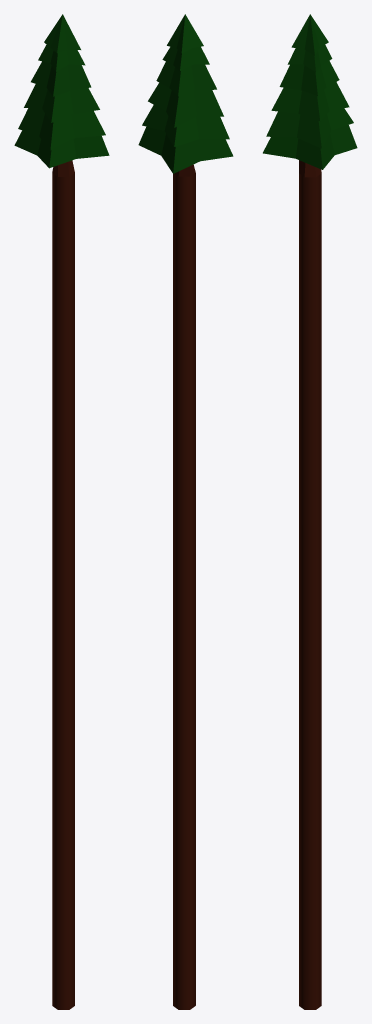
The model's file is Tall Tree.fbx.
3 renders of one model, left to right at view 1: azimuth 30°, elevation 25°; view 2: azimuth 210°, elevation 25°; view 3: azimuth 330°, elevation 25°, orthographic.
Parts seen in each view (by area): view 1: tree-pine; view 2: tree-pine; view 3: tree-pine.
Part boxes in pixels (x1,y1,x2,y2): tree-pine: (14,14,109,1009); tree-pine: (138,14,233,1009); tree-pine: (263,14,357,1009).
Size of the model in its own units: 240 by 3765 by 240.
